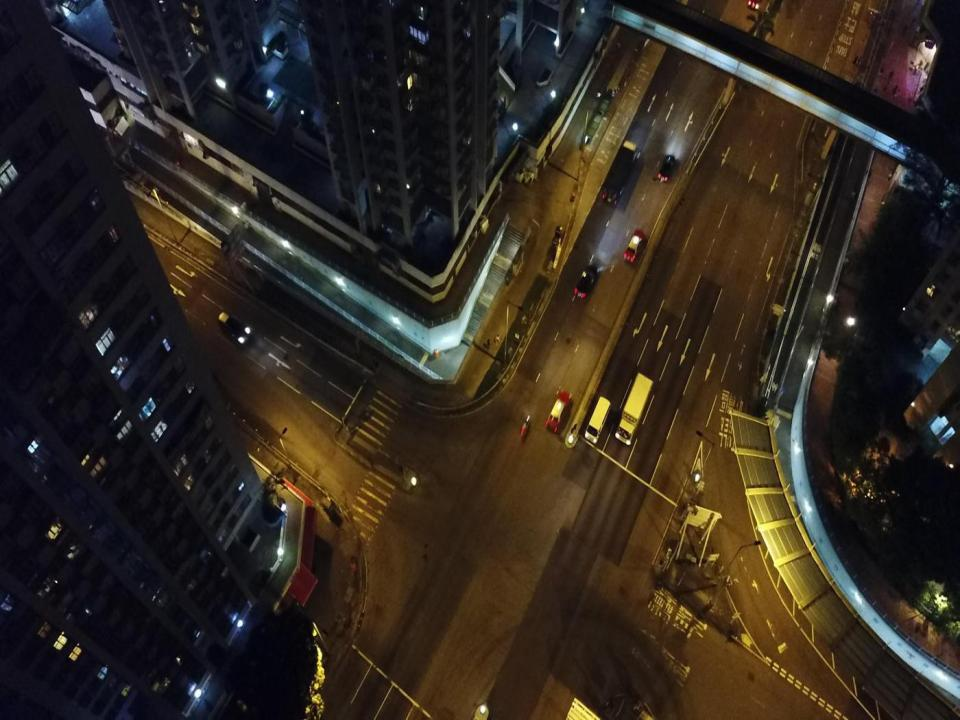car: (544, 388, 572, 432), (218, 311, 250, 346), (574, 262, 600, 299), (623, 227, 646, 263), (657, 154, 675, 183)
truck: (614, 371, 654, 446), (601, 139, 637, 205)
van: (584, 396, 611, 443)
